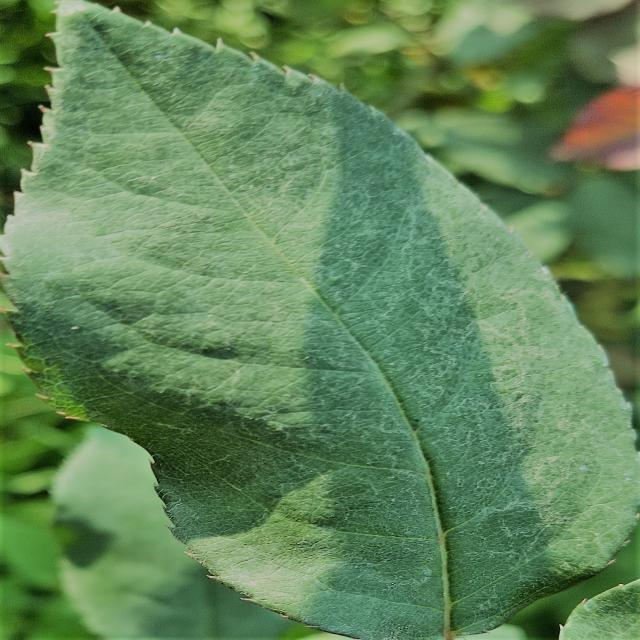Rose: (1, 1, 638, 638)
